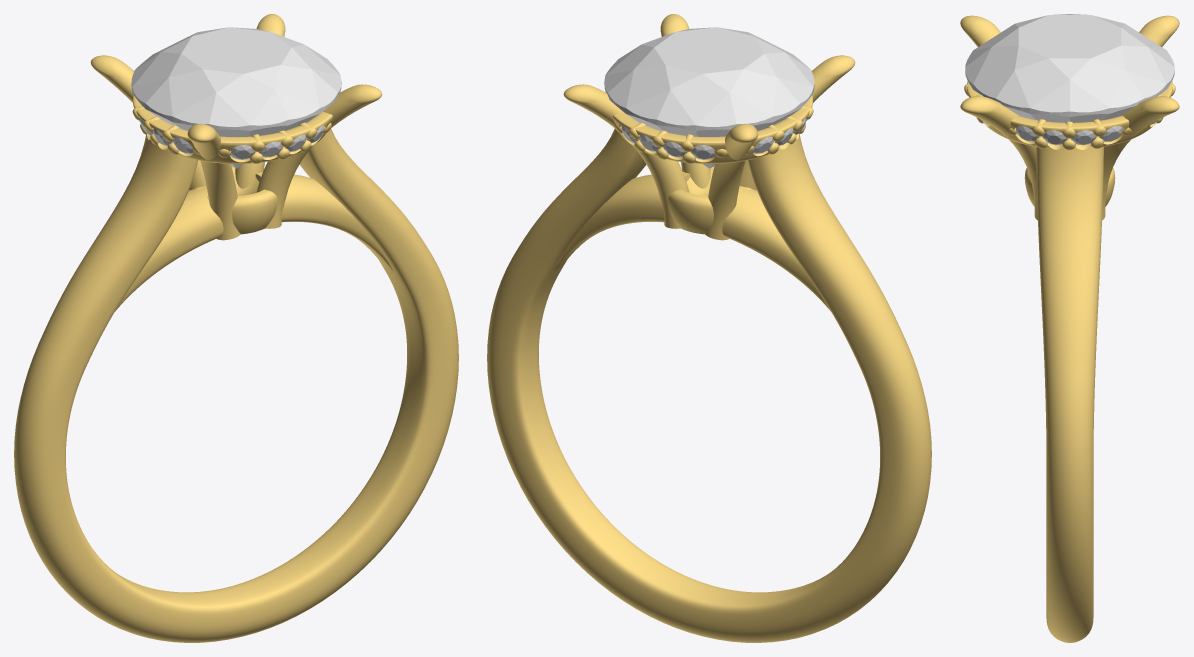
File: ZachYGeng_blender.glb
3 views of the same model, side by side, from view 1: azimuth 30°, elevation 25°; view 2: azimuth 150°, elevation 25°; view 3: azimuth 270°, elevation 25° (orthographic).
Visible parts, largest first — view 1: Zach YG for 3d model, Zach dia for 3d model.016; view 2: Zach YG for 3d model, Zach dia for 3d model.016; view 3: Zach YG for 3d model, Zach dia for 3d model.016.
Part boxes in pixels (x1=…): Zach YG for 3d model: x1=14, y1=14, x2=458, y2=642; Zach dia for 3d model.016: x1=131, y1=27, x2=341, y2=168; Zach YG for 3d model: x1=487, y1=14, x2=931, y2=642; Zach dia for 3d model.016: x1=604, y1=27, x2=814, y2=168; Zach YG for 3d model: x1=960, y1=15, x2=1179, y2=642; Zach dia for 3d model.016: x1=965, y1=14, x2=1174, y2=122.
Size of the model in its own units: 19.28 by 24.55 by 8.37.
